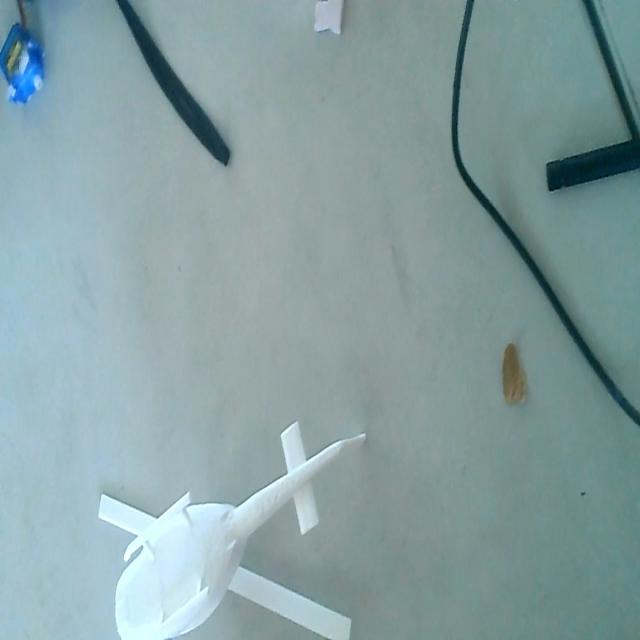Helicopter: (96, 413, 367, 640)
